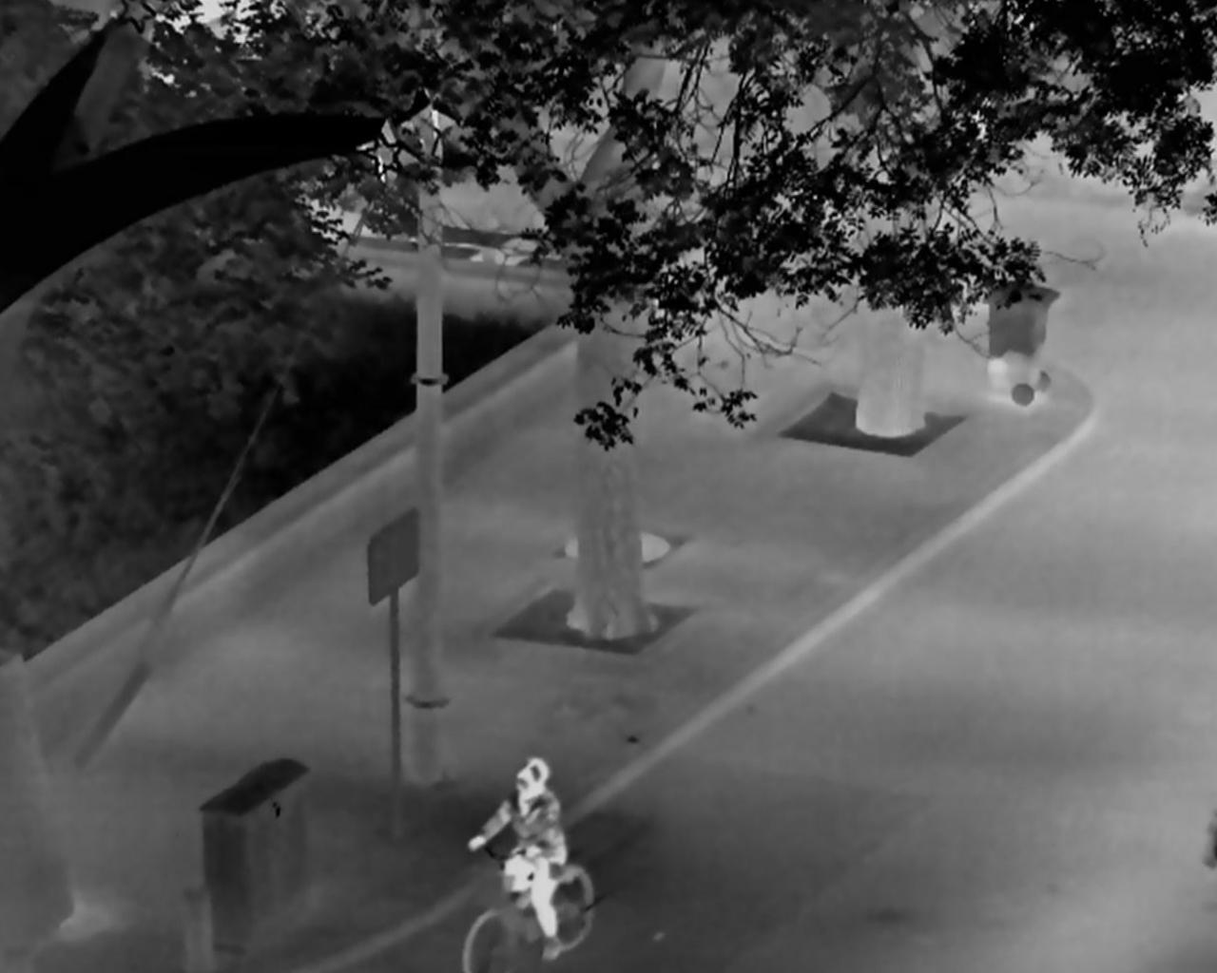person: (468, 756, 568, 959)
